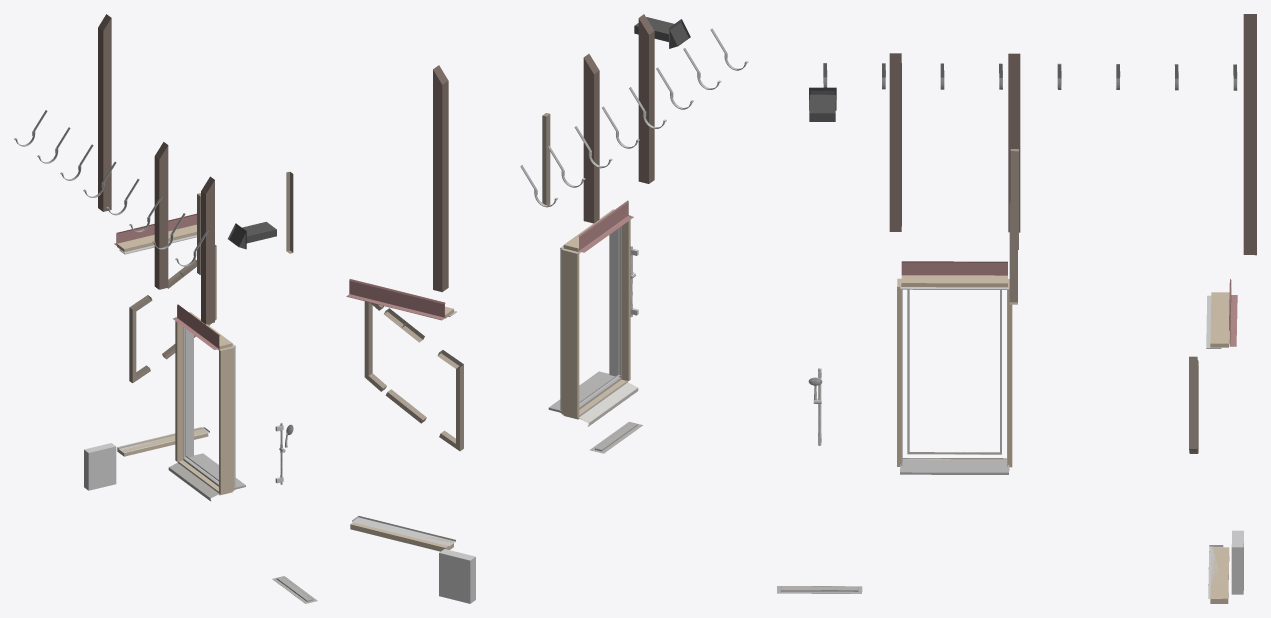
The picture shows the model from 3 angles, left to right: view 1: azimuth 30°, elevation 25°; view 2: azimuth 150°, elevation 25°; view 3: azimuth 270°, elevation 25°; orthographic projection. The views are drawn at different scales.
Size of the model in its own units: 2.31 by 5.35 by 4.01.
